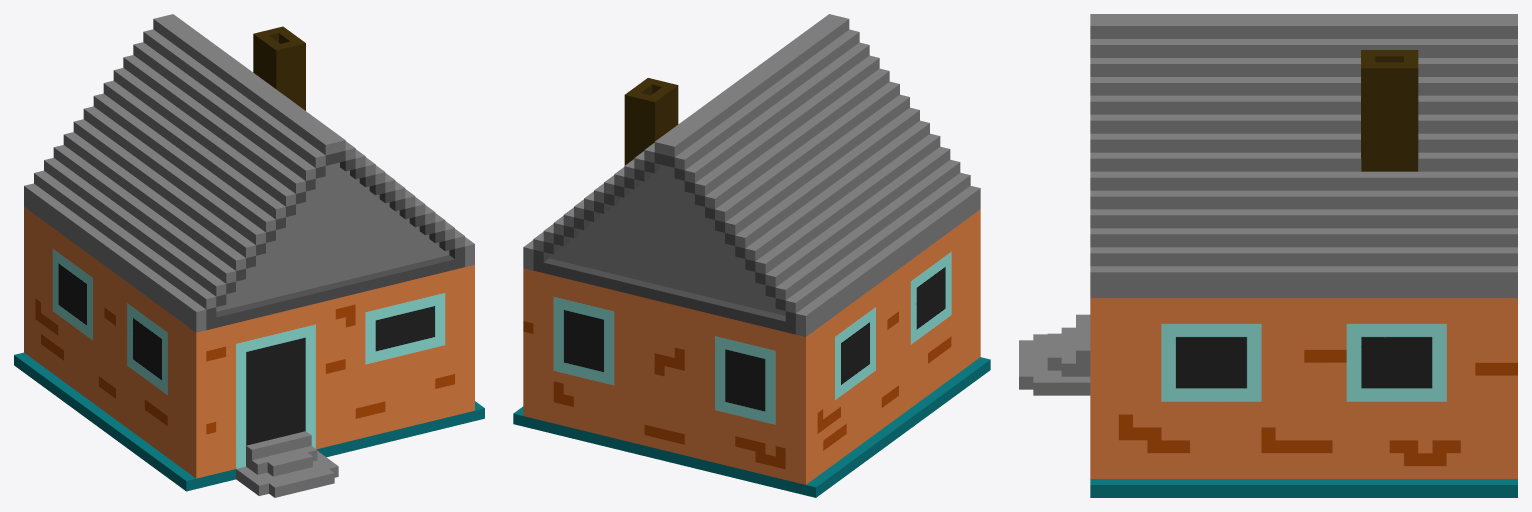
Rendered from House_3.fbx.
3 views of the same model, side by side, from view 1: azimuth 30°, elevation 25°; view 2: azimuth 150°, elevation 25°; view 3: azimuth 270°, elevation 25° (orthographic). The views are drawn at different scales.
Visible parts, largest first — view 1: House_3; view 2: House_3; view 3: House_3.
Part boxes in pixels (x1,y1,x2,y2): House_3: (14,14,484,497); House_3: (513,14,990,497); House_3: (1019,14,1517,497).
Bounding box in the file's own units: 30 × 30 × 35.
1 material, 1 textured.
